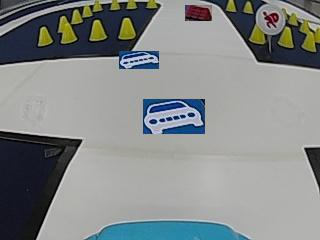thief: (256, 4, 286, 34)
